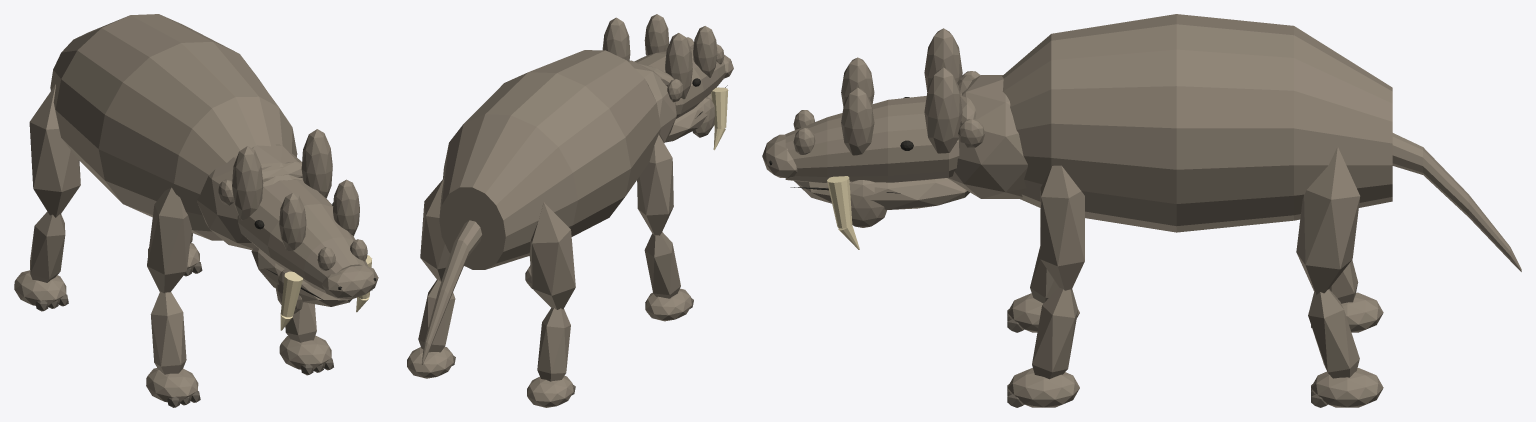
The picture shows the model from 3 angles, left to right: view 1: azimuth 30°, elevation 25°; view 2: azimuth 150°, elevation 25°; view 3: azimuth 270°, elevation 25°; orthographic projection. The views are drawn at different scales.
Visible parts, largest first — view 1: surface_warmgray_brown_skin, surface_ivory_canines, surface_muted_toes; view 2: surface_warmgray_brown_skin, surface_ivory_canines; view 3: surface_warmgray_brown_skin, surface_ivory_canines.
Boxes of the visible parts, x1,y1,x2,y2 form: surface_warmgray_brown_skin: (14, 14, 378, 402); surface_ivory_canines: (280, 255, 371, 330); surface_muted_toes: (35, 262, 333, 407); surface_warmgray_brown_skin: (407, 14, 733, 407); surface_ivory_canines: (711, 87, 728, 150); surface_warmgray_brown_skin: (762, 14, 1521, 407); surface_ivory_canines: (827, 176, 859, 249).
Size of the model in its own units: 0.3082 by 0.499 by 1.
